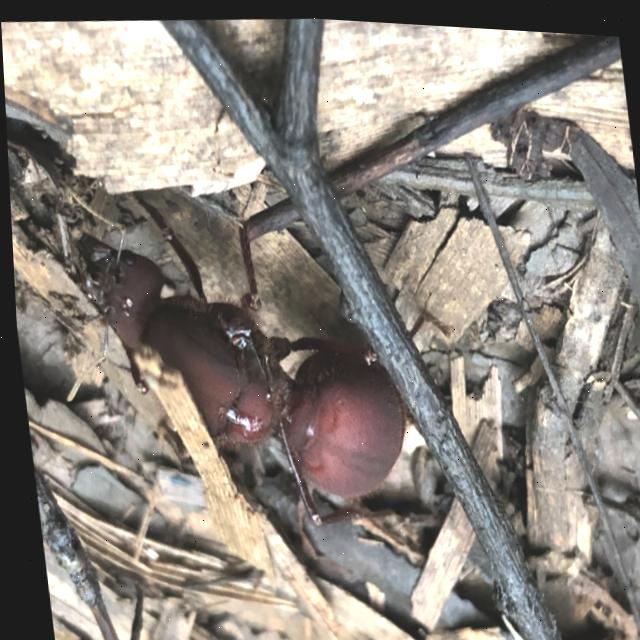Alive-Female-Dealate: (37, 158, 469, 572)
